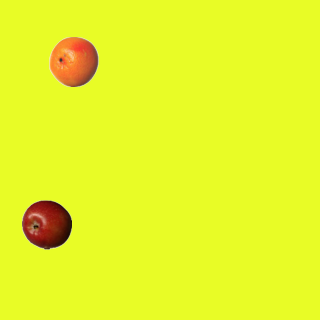Apple Braeburn: (21, 199, 71, 249)
Grapefruit Pink: (48, 36, 98, 86)
